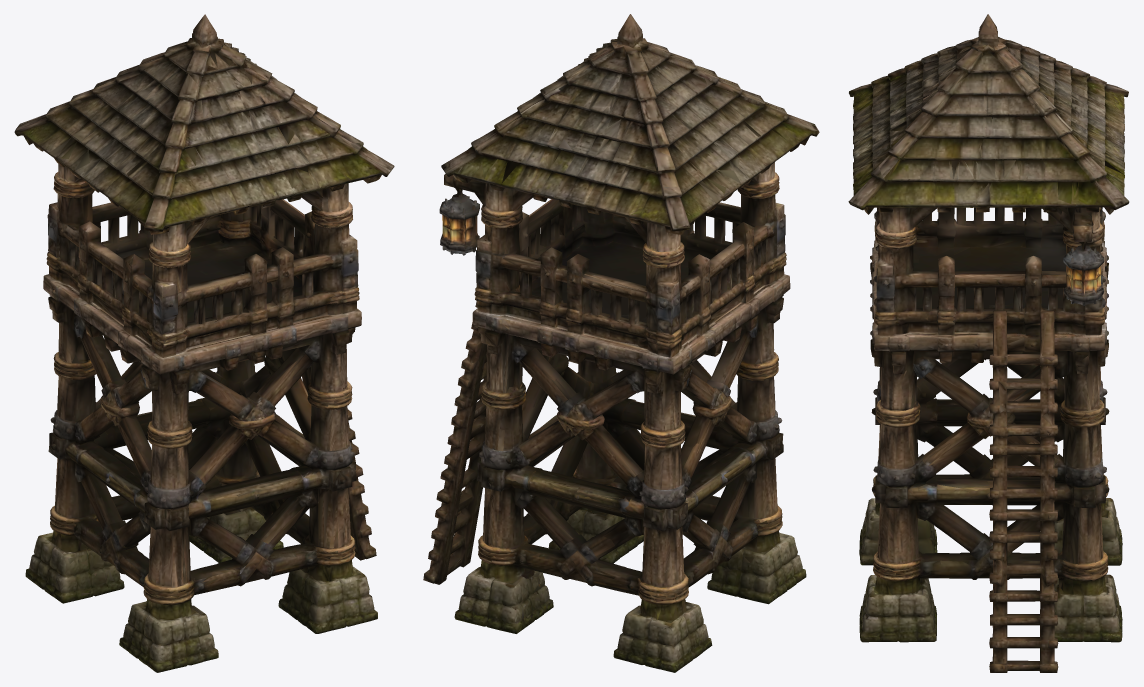
3 renders of one model, left to right at view 1: azimuth 30°, elevation 25°; view 2: azimuth 150°, elevation 25°; view 3: azimuth 270°, elevation 25°, orthographic.
Parts seen in each view (by area): view 1: node_0; view 2: node_0; view 3: node_0.
Part boxes in pixels (x1=…): node_0: x1=14, y1=14, x2=394, y2=672; node_0: x1=423, y1=14, x2=819, y2=672; node_0: x1=848, y1=14, x2=1129, y2=672.
Size of the model in its own units: 0.5442 by 1.02 by 0.4493.
1 material, 1 textured.
